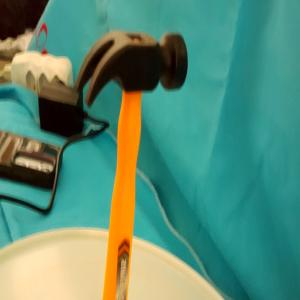martelo: (72, 28, 190, 300)
